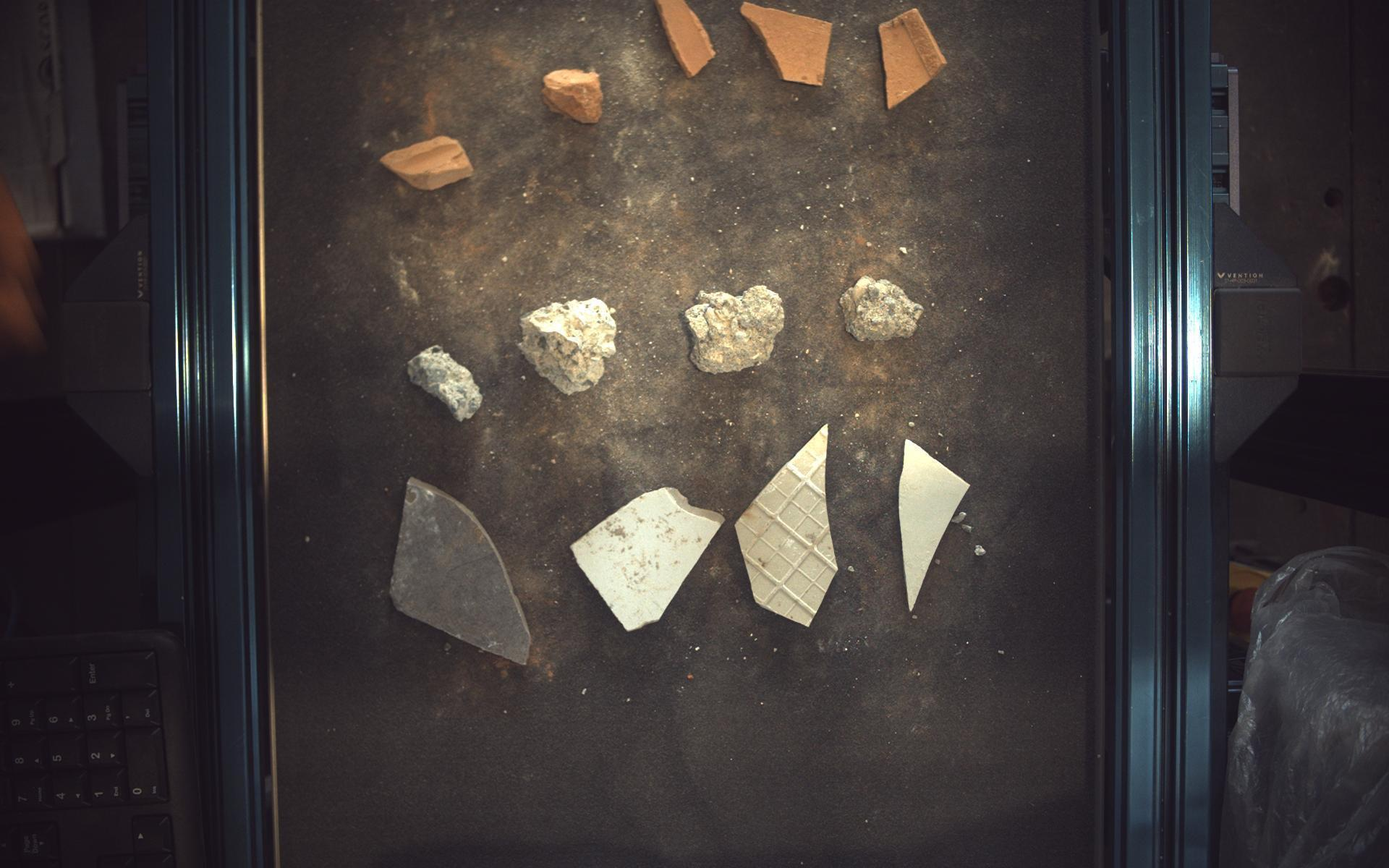brick: (742, 2, 833, 85), (880, 7, 948, 107), (380, 135, 474, 190), (657, 1, 716, 76), (543, 68, 603, 122)
concrete: (519, 297, 617, 394), (686, 285, 786, 373), (407, 344, 483, 421), (841, 276, 925, 341)
tile: (390, 478, 531, 665), (572, 488, 725, 631), (736, 425, 839, 627), (901, 440, 972, 610)
